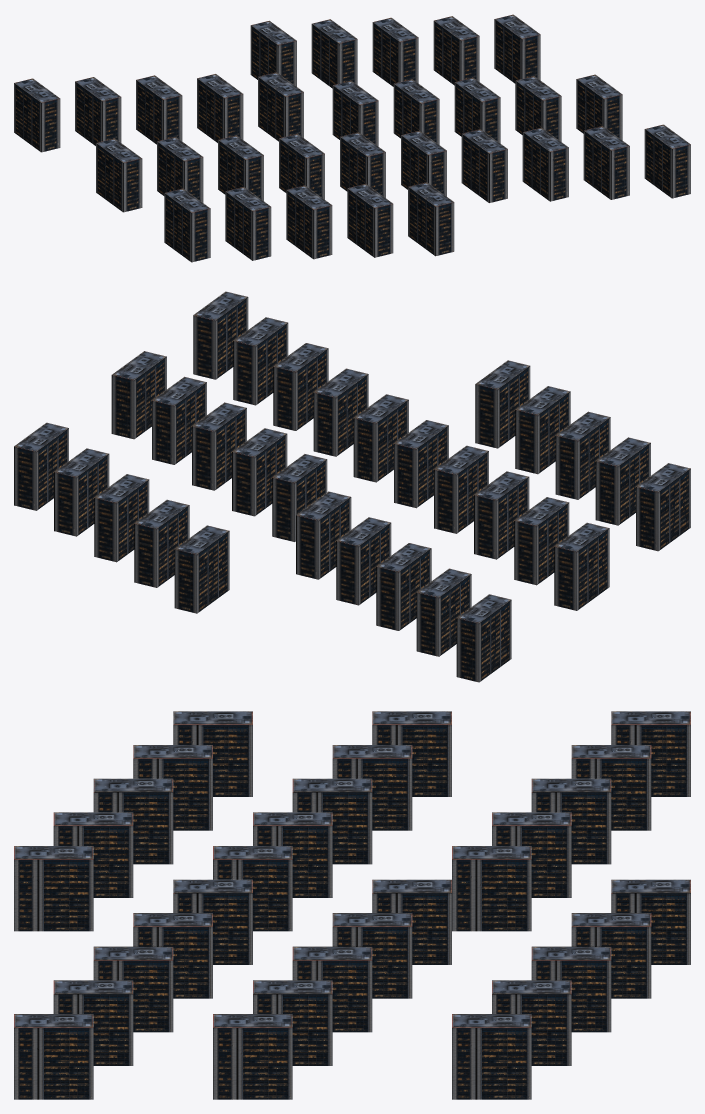
Rendered from skyliner.glb.
The picture shows the model from 3 angles, top to bottom: view 1: azimuth 30°, elevation 25°; view 2: azimuth 150°, elevation 25°; view 3: azimuth 270°, elevation 25°; orthographic projection. The views are drawn at different scales.
Visible parts, largest first — view 1: Cube.003, Cube.001, Cube.005, Cube.006, Cube.015, Cube.028, Cube.030, Cube.004, Cube.027, Cube.002, Cube.029, Cube.020 (+18 smaller); view 2: Cube.006, Cube.015, Cube.016, Cube.005, Cube.013, Cube.023, Cube.026, Cube.002, Cube.012, Cube.017, Cube.027, Cube.028 (+18 smaller); view 3: Cube.003, Cube.013, Cube.018, Cube.023, Cube.028, Cube.001, Cube.030, Cube.010, Cube.011, Cube.020, Cube.021, Cube.002 (+18 smaller).
Part boxes in pixels (left/top/right/bottom): Cube.003: left=408, top=182, right=454, bottom=256; Cube.001: left=286, top=185, right=332, bottom=259; Cube.005: left=164, top=188, right=210, bottom=262; Cube.006: left=96, top=138, right=142, bottom=212; Cube.015: left=14, top=78, right=60, bottom=152; Cube.028: left=644, top=124, right=690, bottom=198; Cube.030: left=522, top=127, right=568, bottom=201; Cube.004: left=225, top=187, right=271, bottom=260; Cube.027: left=461, top=129, right=507, bottom=202; Cube.002: left=347, top=184, right=393, bottom=257; Cube.029: left=583, top=126, right=629, bottom=199; Cube.020: left=372, top=17, right=418, bottom=86; Cube.006: left=554, top=522, right=609, bottom=610; Cube.015: left=456, top=594, right=511, bottom=682; Cube.016: left=174, top=525, right=229, bottom=613; Cube.005: left=636, top=463, right=690, bottom=551; Cube.013: left=296, top=491, right=351, bottom=579; Cube.023: left=111, top=351, right=166, bottom=439; Cube.026: left=353, top=394, right=408, bottom=482; Cube.002: left=515, top=386, right=570, bottom=474; Cube.012: left=336, top=517, right=391, bottom=605; Cube.017: left=134, top=499, right=189, bottom=587; Cube.027: left=313, top=368, right=368, bottom=456; Cube.028: left=193, top=291, right=248, bottom=379; Cube.003: left=14, top=846, right=93, bottom=931; Cube.013: left=452, top=846, right=531, bottom=931; Cube.018: left=452, top=1014, right=531, bottom=1099; Cube.023: left=213, top=1014, right=292, bottom=1099; Cube.028: left=14, top=1014, right=93, bottom=1099; Cube.001: left=93, top=778, right=173, bottom=864; Cube.030: left=93, top=946, right=173, bottom=1032; Cube.010: left=292, top=778, right=372, bottom=864; Cube.011: left=531, top=778, right=611, bottom=864; Cube.020: left=531, top=946, right=611, bottom=1032; Cube.021: left=292, top=946, right=372, bottom=1032; Cube.002: left=53, top=812, right=133, bottom=897.
Size of what is drawn, in the model's own units: 18.8 by 2 by 17.
30 materials, 30 textured.
